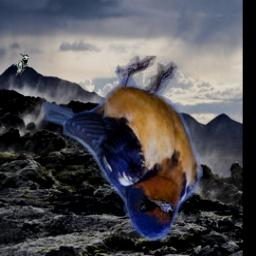Swallow: (44, 56, 204, 242)
Woodpecker: (13, 53, 28, 75)
